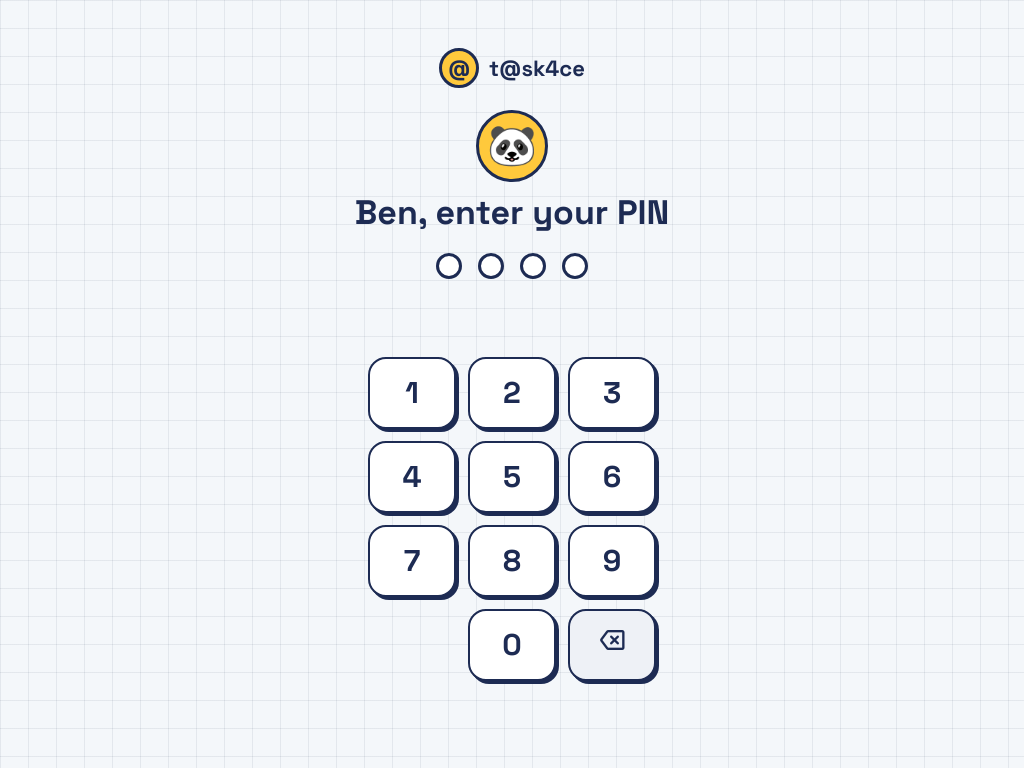
Test: kid lock screen › wrong PIN 401 stays on the kid auth path
The image size is (1024, 768).
Click the button "1": [412, 393] box 368,357 -> 456,429
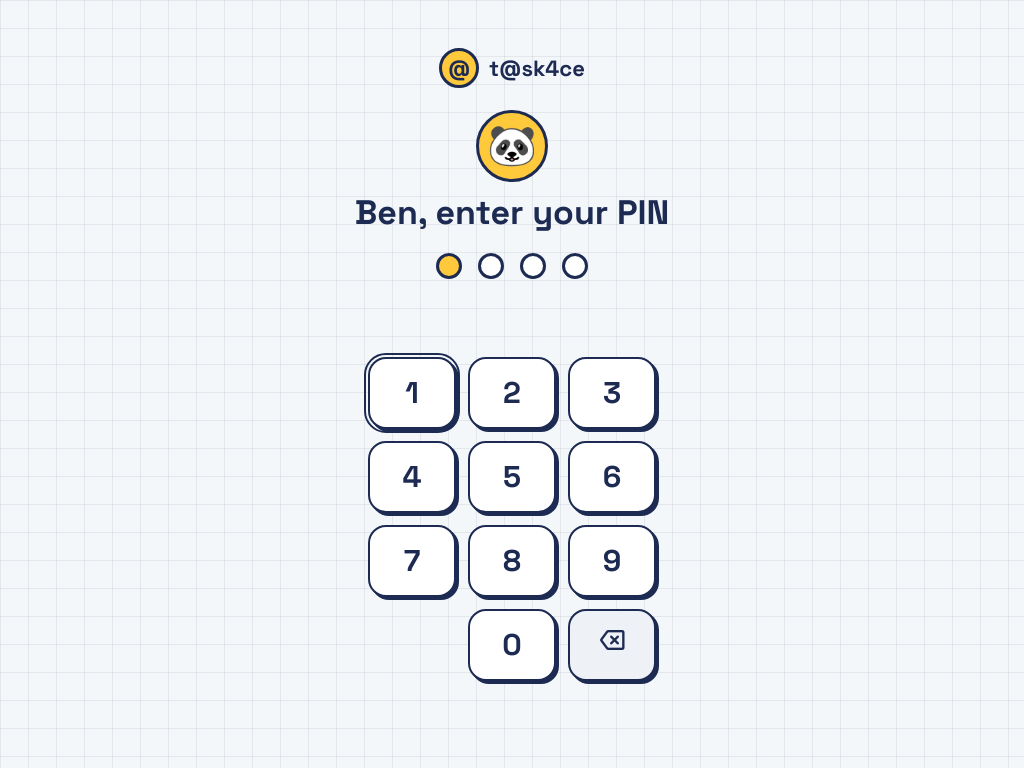
Click the button "2": [512, 393] box 468,357 -> 556,429
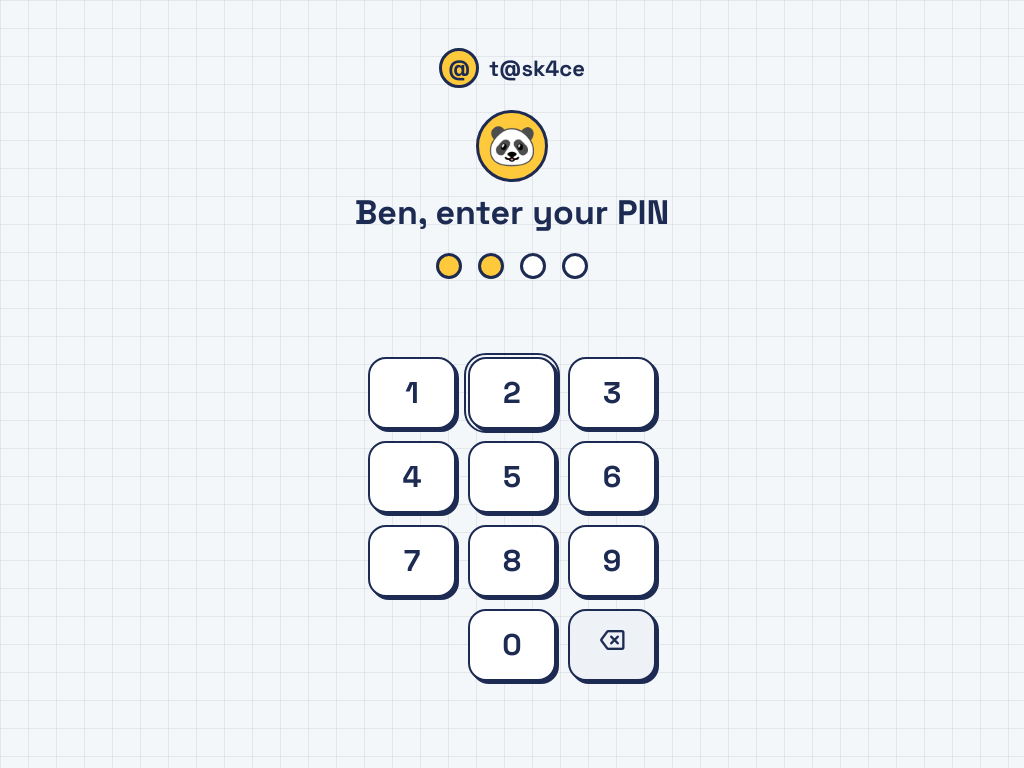
Click the button "3": [612, 393] box 568,357 -> 656,429
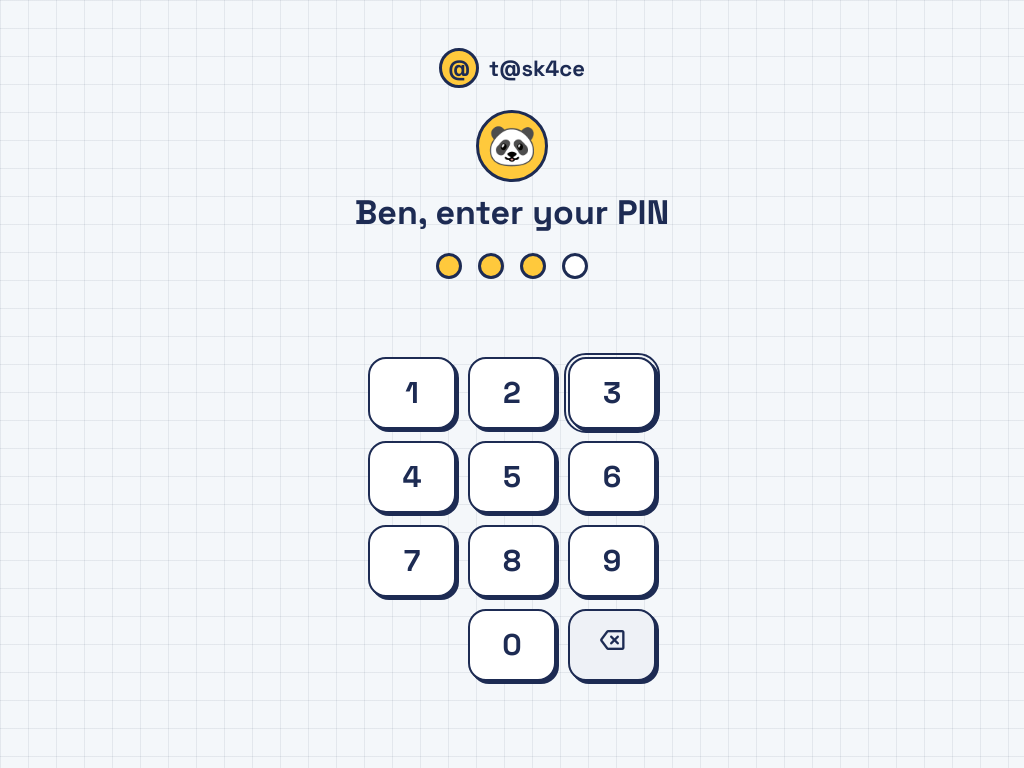
Click the button "4": [412, 477] box 368,441 -> 456,513
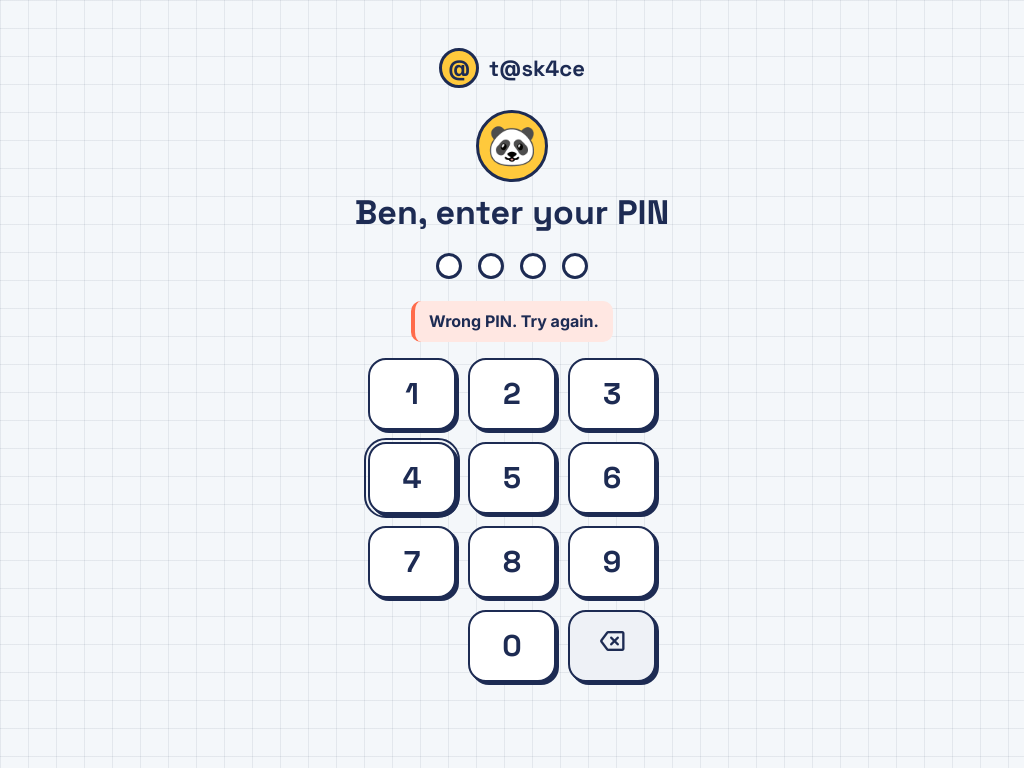
Result: the text "Wrong PIN. Try again." is shown at 411,301 -> 613,342
